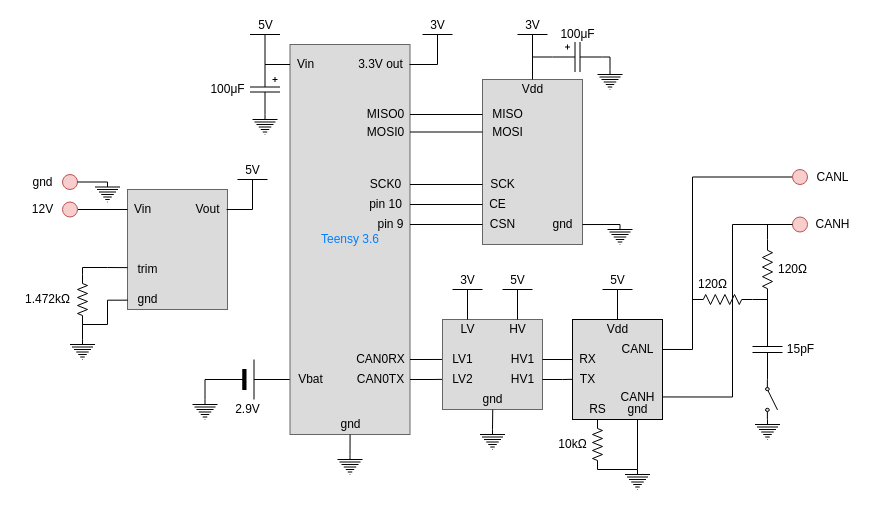
Image size: 874x507. Some labels were removed from this diagram. Each missing label, with the box of its shape:
AXA003A0XZ 12V to 5V: (126, 188, 228, 310)
Logic Level Shifter: (442, 318, 542, 410)
MCP 2551: (572, 318, 662, 420)
nRF24L01+: (482, 78, 582, 244)
